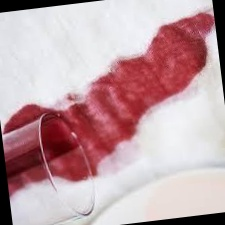wine: (107, 51, 189, 118), (71, 94, 137, 160), (164, 25, 216, 86)
